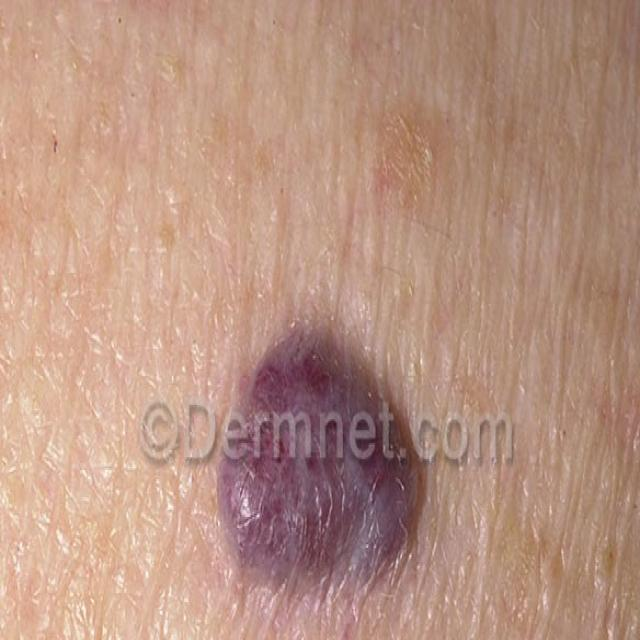Vascular Tumors: (190, 263, 465, 629)
